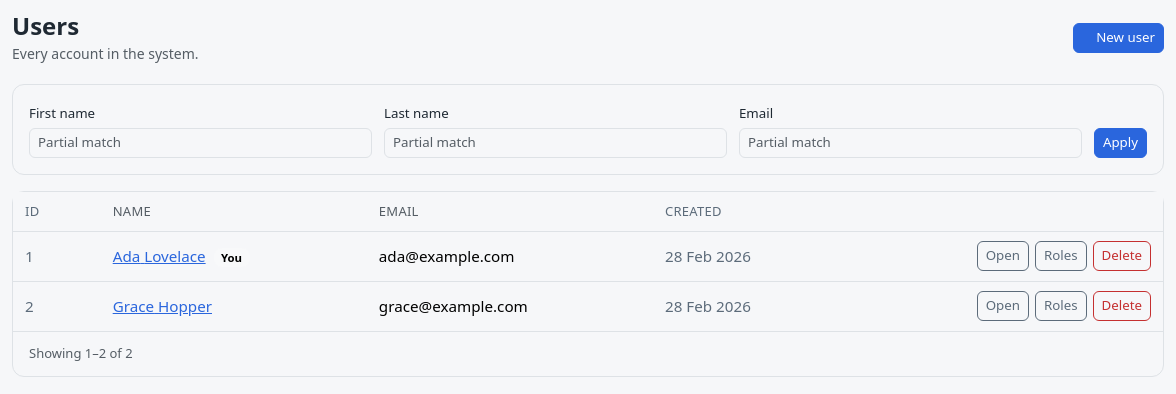
Users list › filters by email
The width and height of the screenshot is (1176, 394).
Expected: the link "Grace Hopper" is shown, 113,296 -> 212,316
In the field labelled "Email": (910, 143) 739,128 -> 1082,158, type "grace"
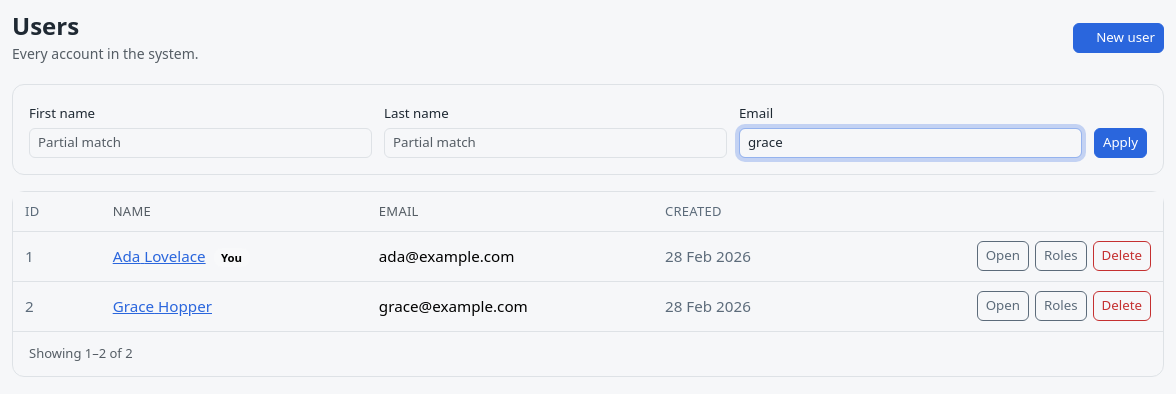
Click the button "Apply": (1120, 143) 1094,128 -> 1147,158
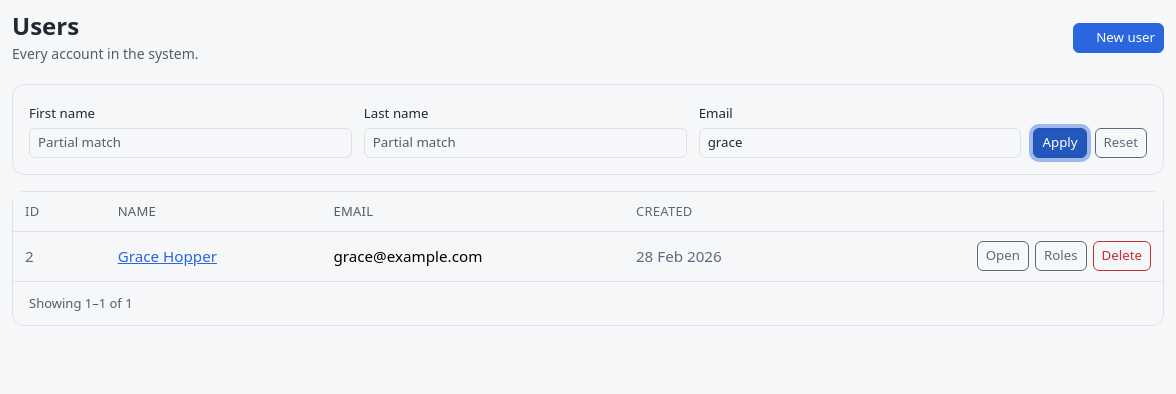
Expected: the link "Grace Hopper" is shown, 118,246 -> 217,266
Now the link "Ada Lovelace" is gone
